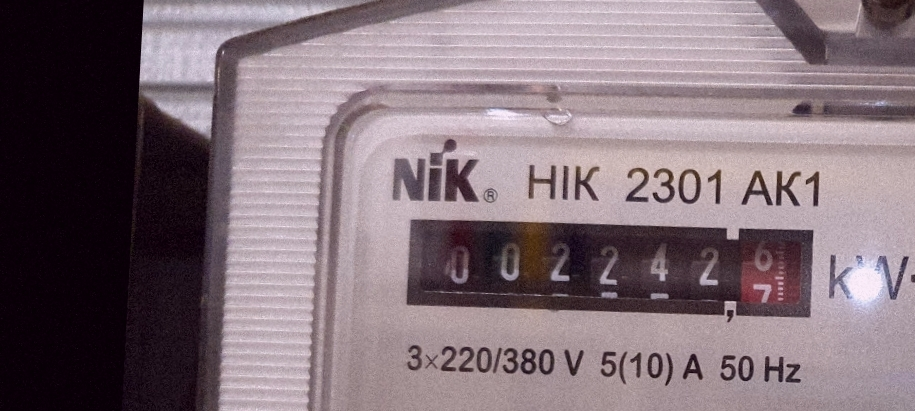0: (495, 238, 522, 282), (547, 239, 573, 283), (447, 241, 471, 286)
2: (694, 243, 722, 288), (596, 242, 621, 287)
4: (645, 239, 671, 284)
6: (750, 238, 776, 272)
7: (749, 280, 773, 304)
screen: (394, 196, 831, 342)
